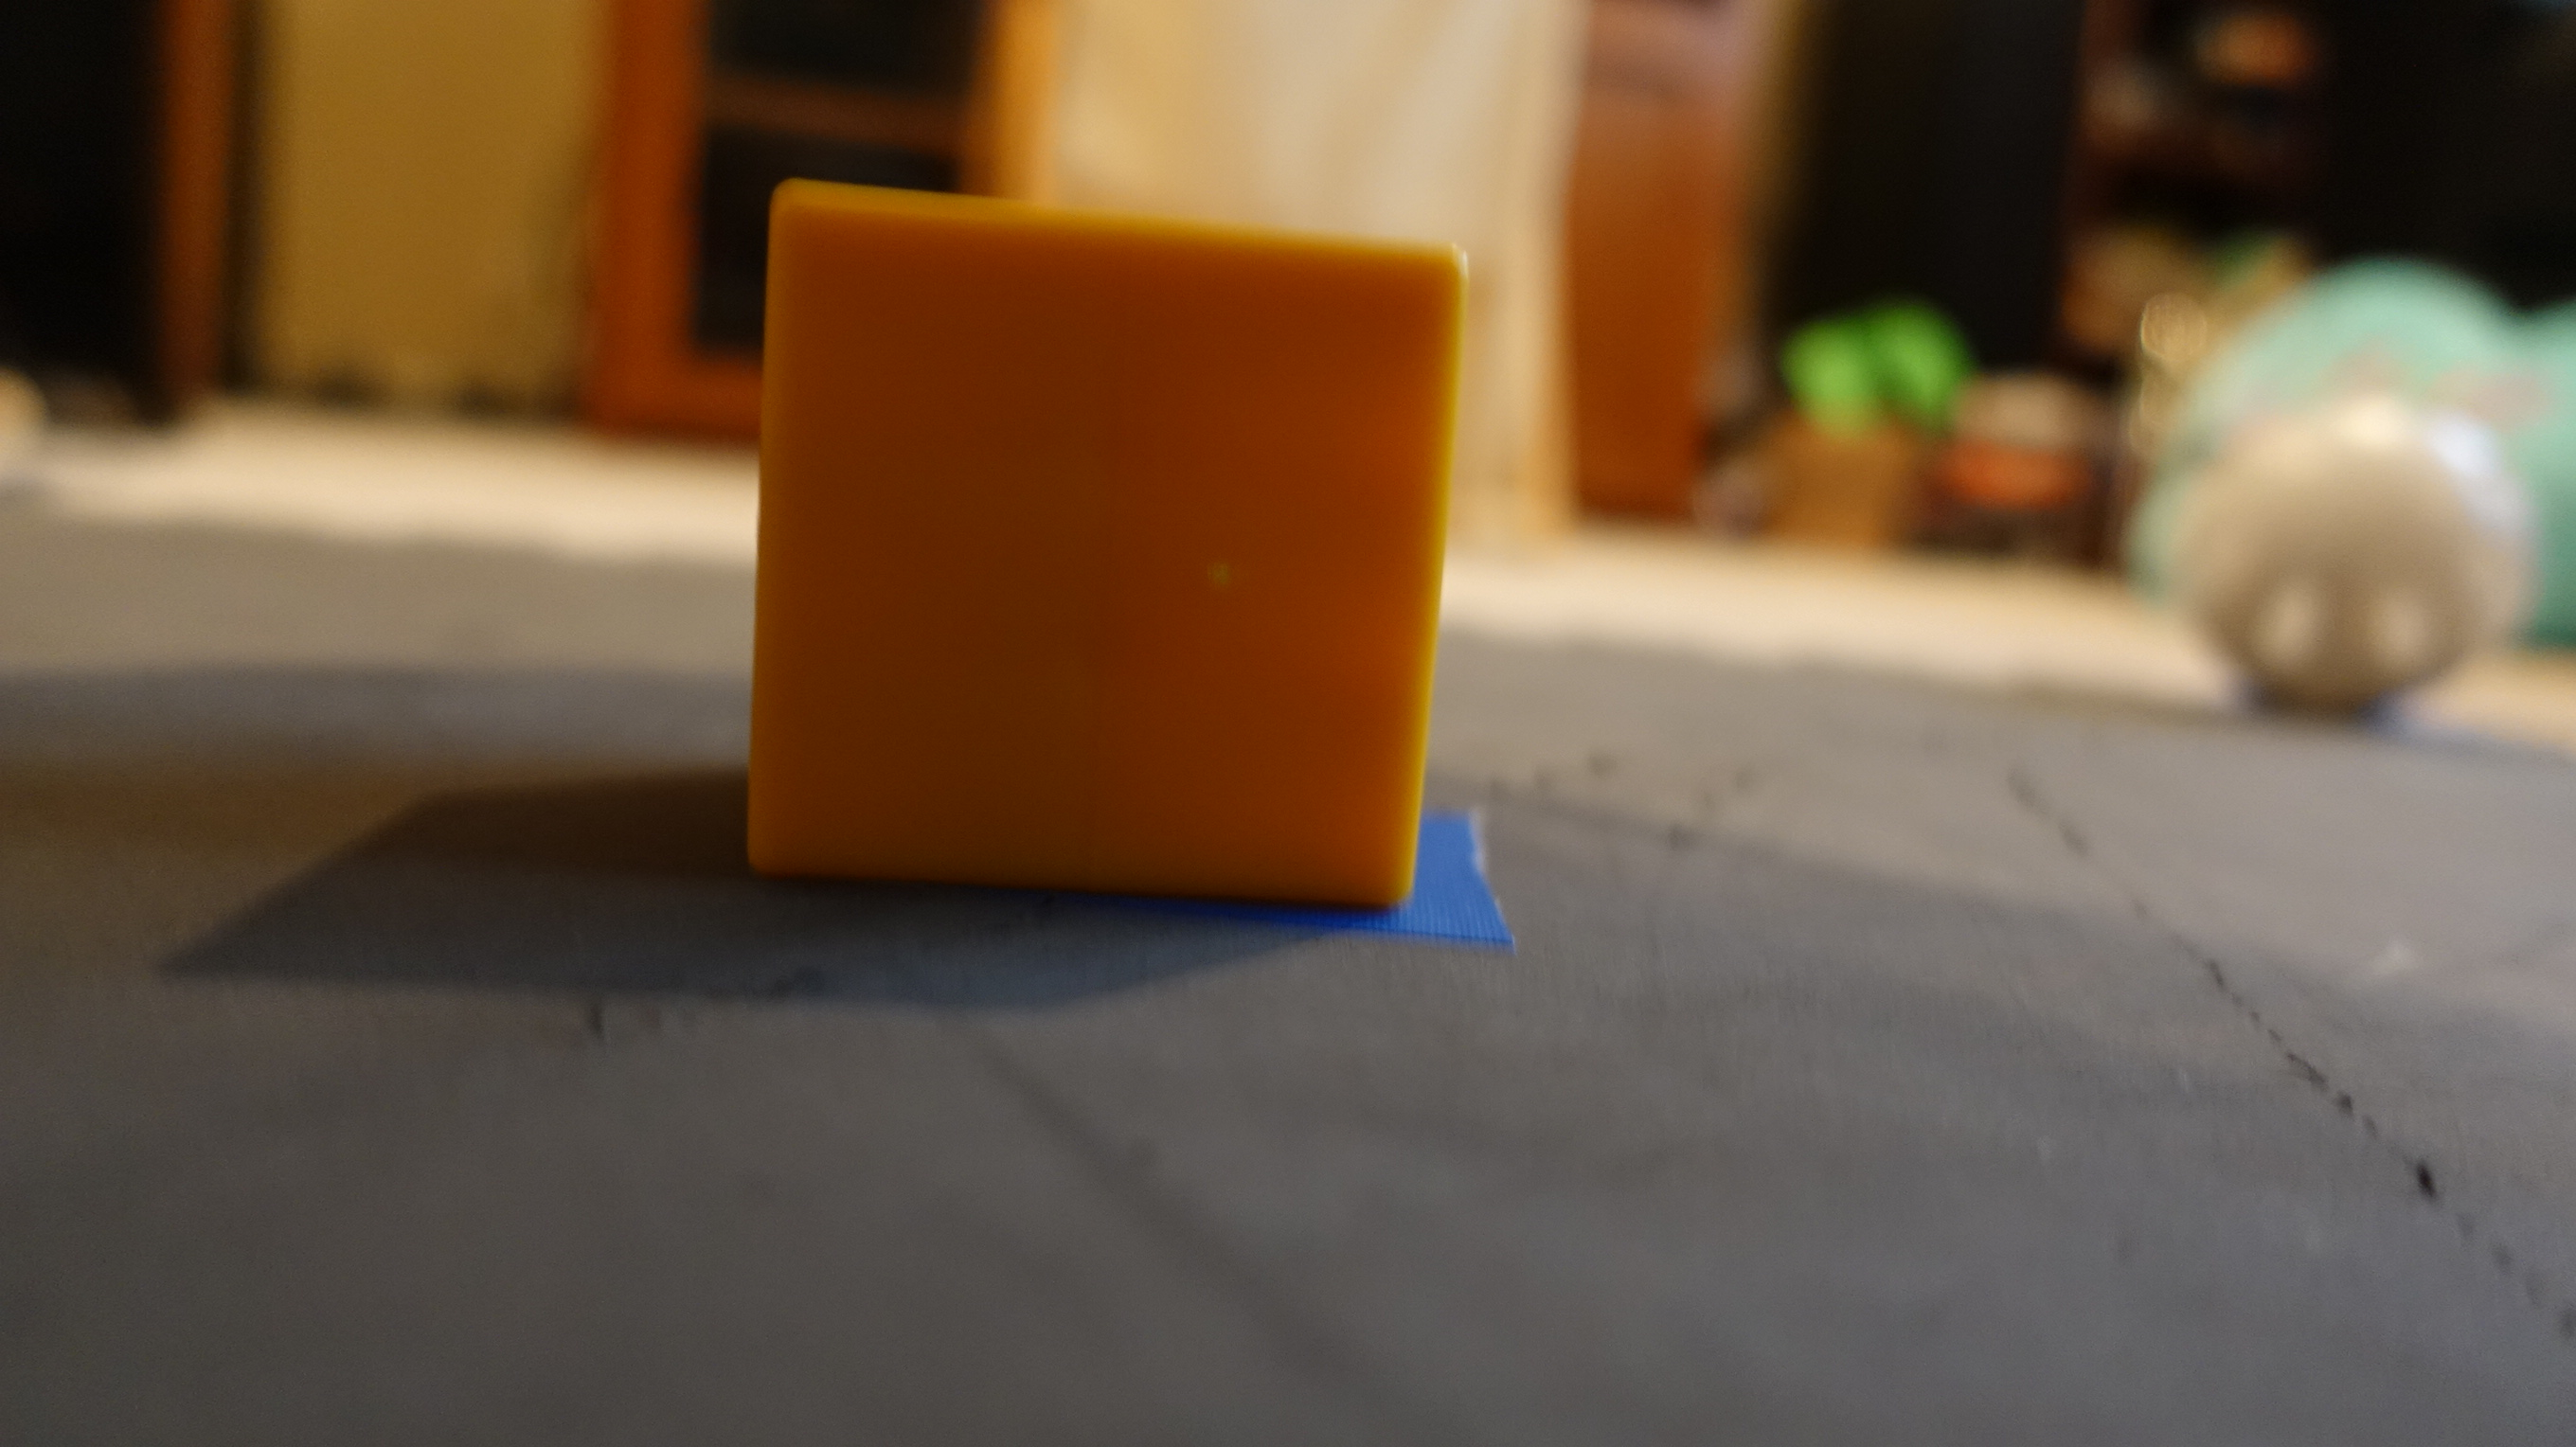gold: (725, 136, 1486, 936)
silver: (2169, 398, 2514, 727)
